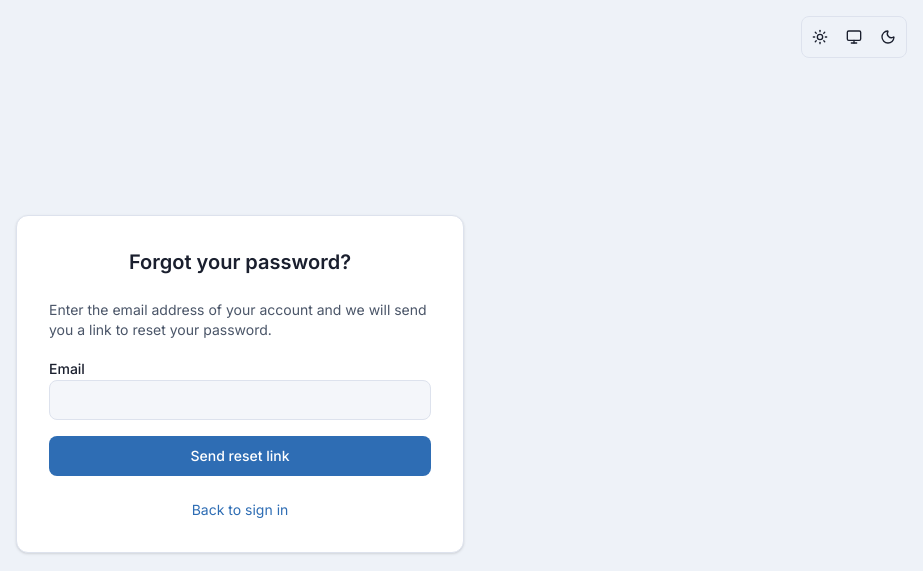
Scenario: ForgotPasswordPage (FR-BB115 AC-7) › posts the email unauthenticated and shows the neutral confirmation
This screenshot has width=923, height=571.
Type "alice@example.com" into the field labelled "Email" at (240, 400), box [49,380,431,420]
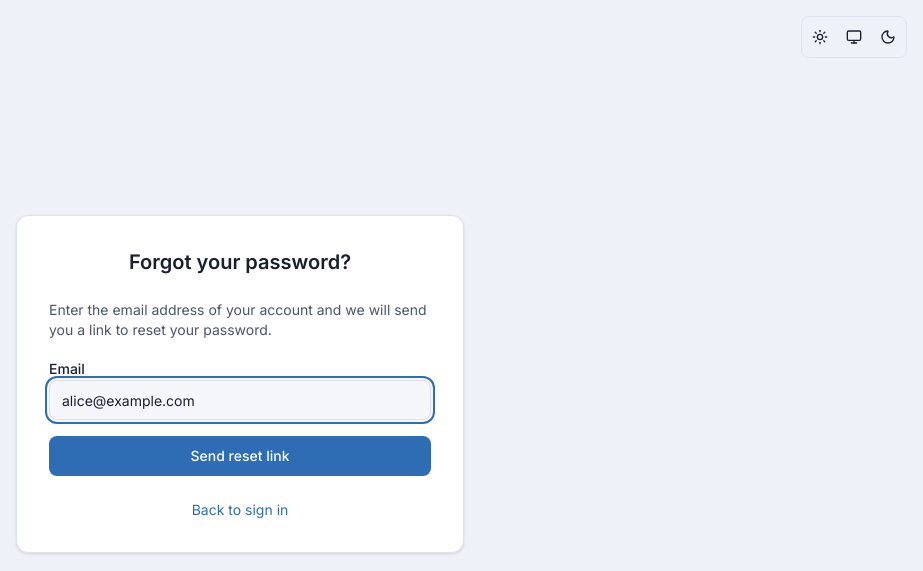
Click the button "Send reset link" at (240, 456), box [49,436,431,476]
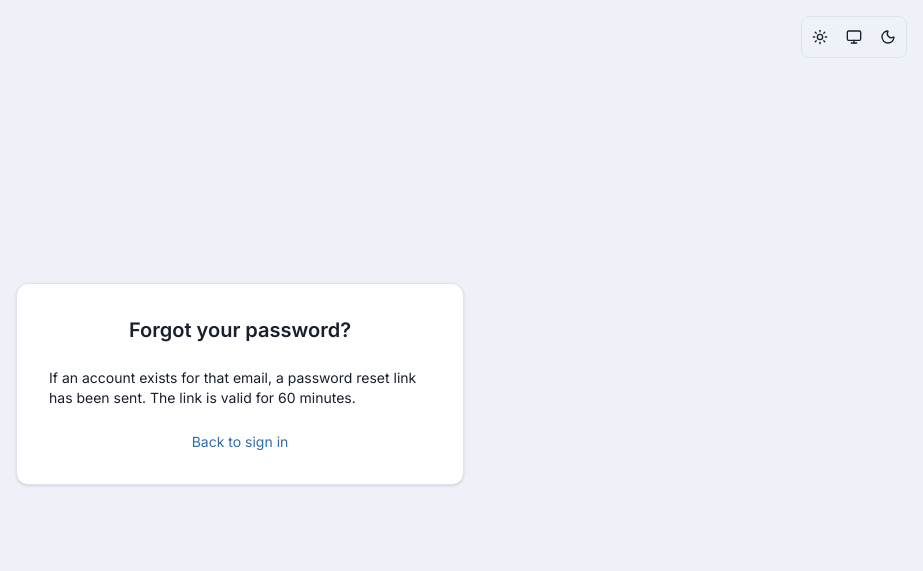
Check: the message shows "If an account exists for that email", box [49,369,416,406]
